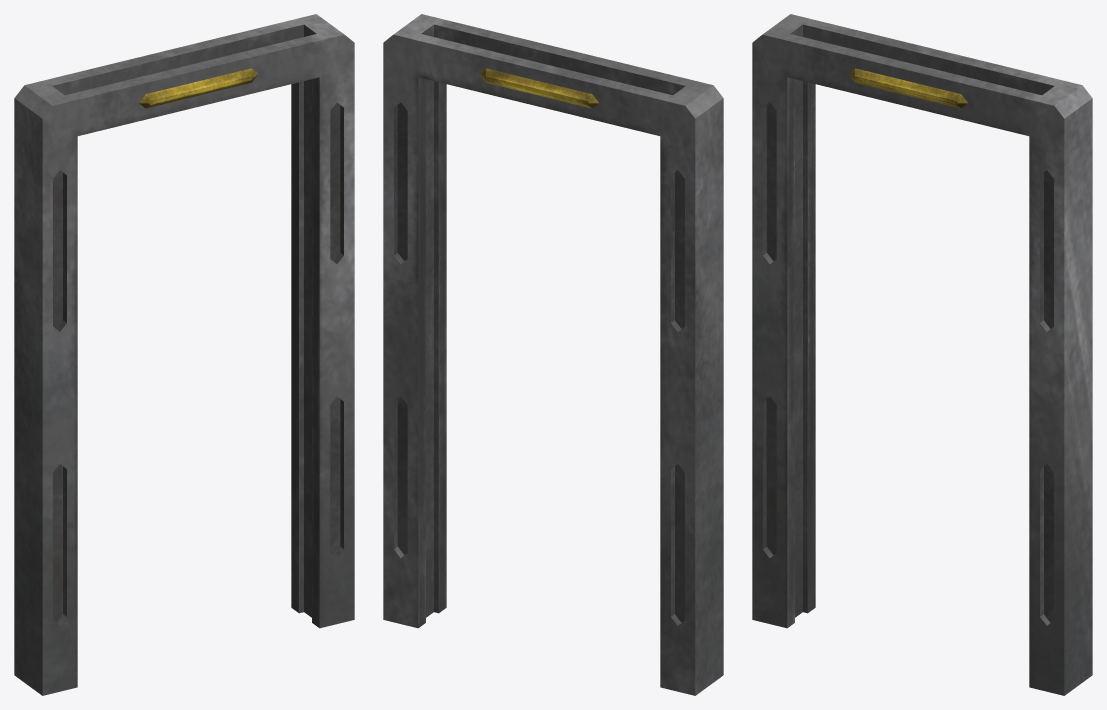
Rendered from Tür_Rahmen.fbx.
The picture shows the model from 3 angles, left to right: view 1: azimuth 30°, elevation 25°; view 2: azimuth 150°, elevation 25°; view 3: azimuth 330°, elevation 25°; orthographic projection.
Visible parts, largest first — view 1: object_1; view 2: object_1; view 3: object_1.
Boxes of the visible parts, x1=… form: object_1: x1=14, y1=14, x2=354, y2=695; object_1: x1=383, y1=14, x2=723, y2=695; object_1: x1=752, y1=14, x2=1092, y2=695.
Bounding box in the file's own units: 12500 × 22500 × 2356.
